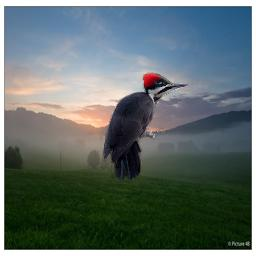Woodpecker: (99, 72, 190, 180)
